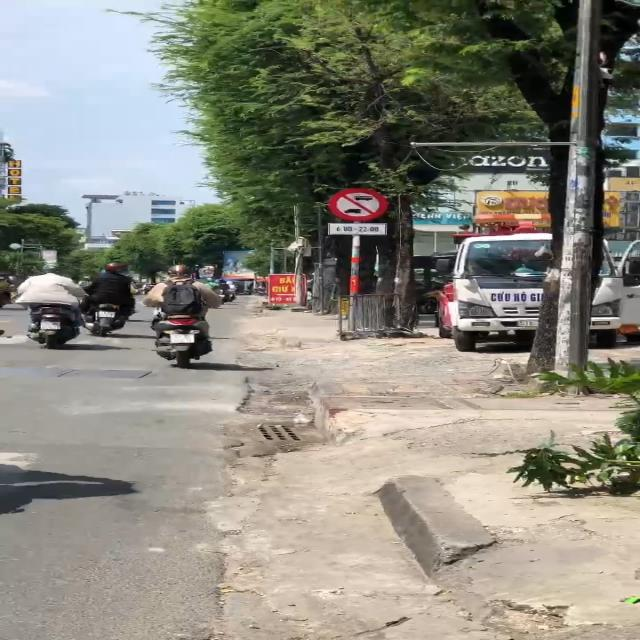Bien bao cam xe oto khach va xe oto tai: (328, 186, 391, 220)
